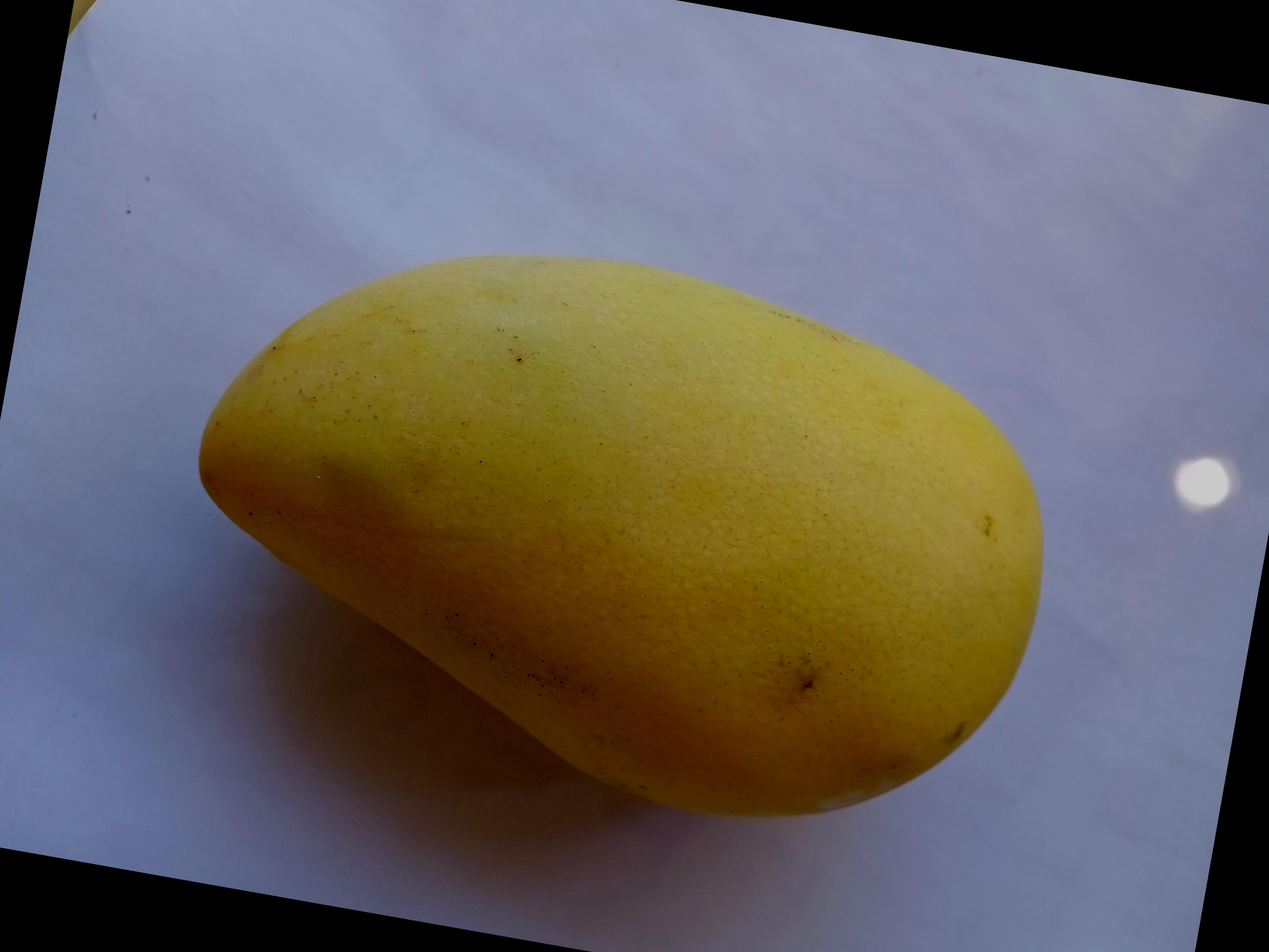Mango Ripe: (213, 15, 1248, 791)
